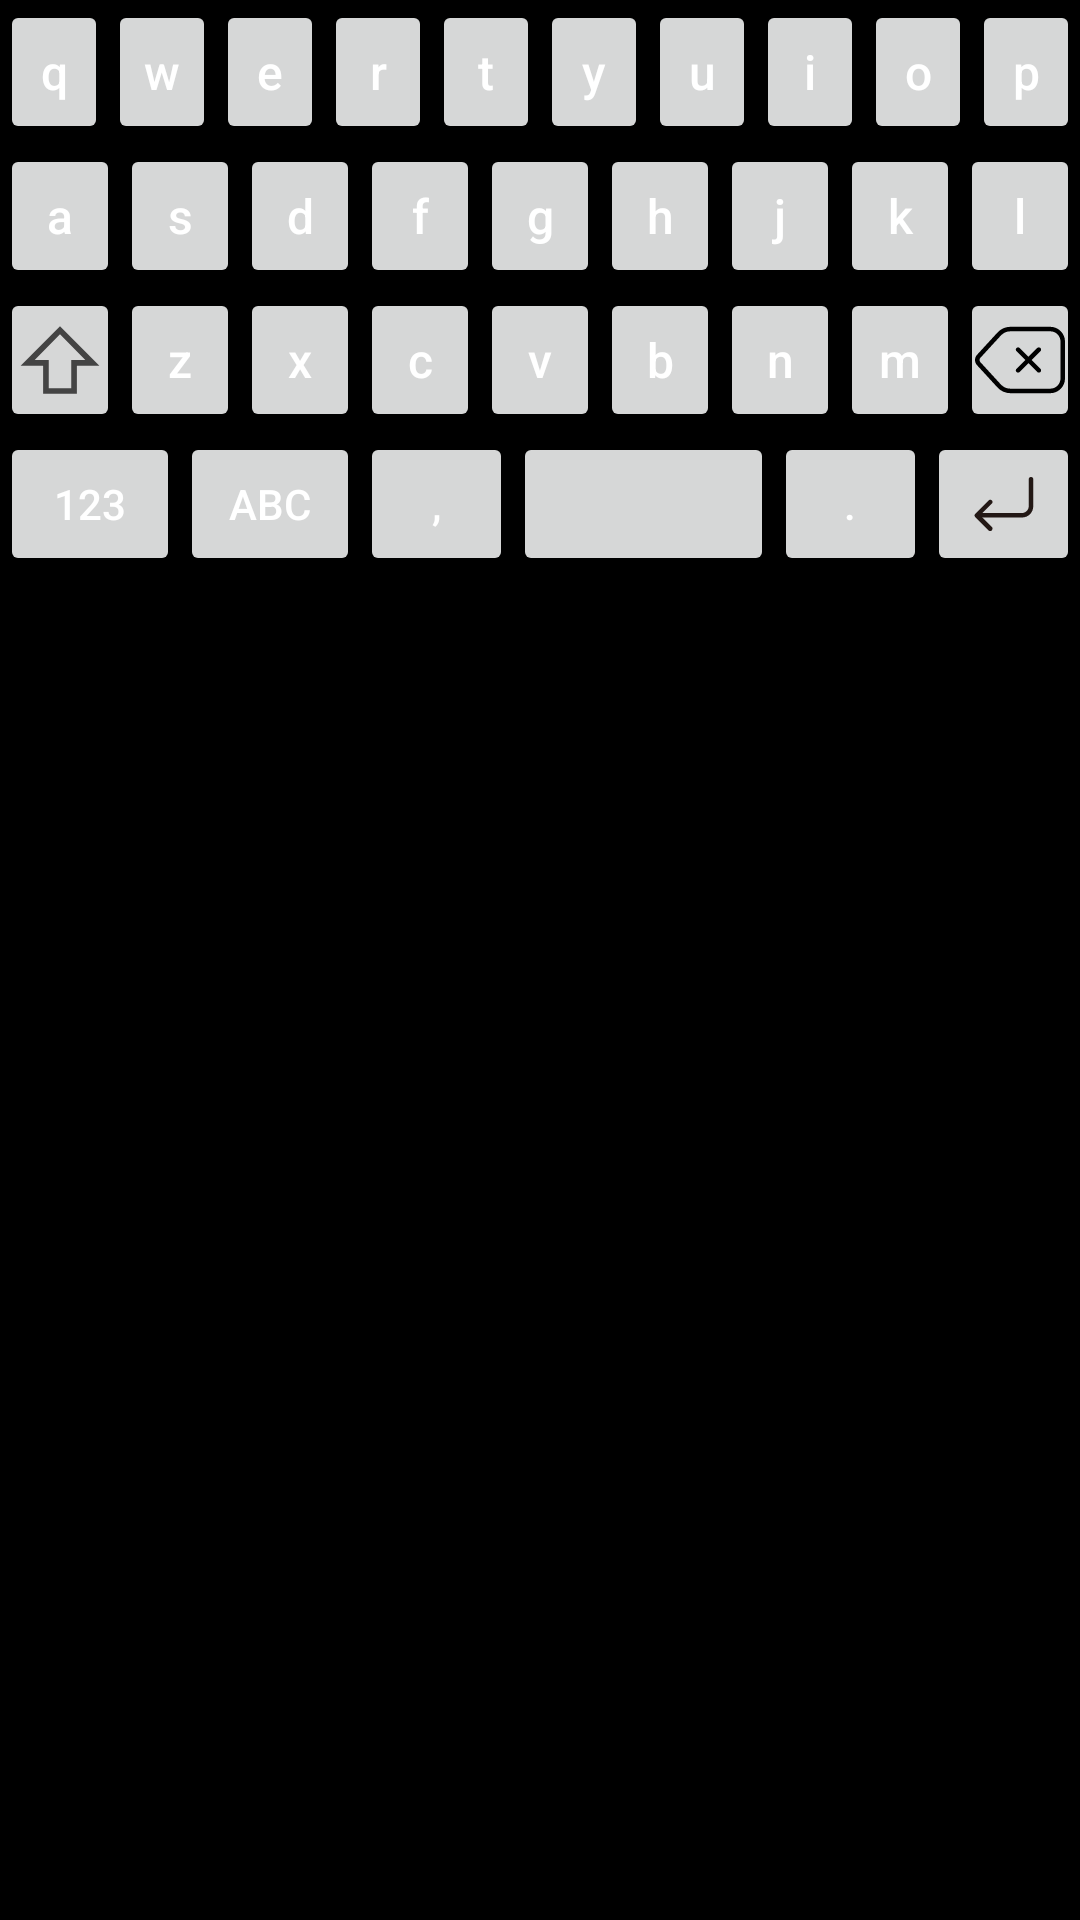

Point at icon controls on the screen. Image size 1080 × 1920, points as (x=x, y=y).
DELETE: (x=1020, y=360)
DONE: (x=1003, y=504)
SHIFT: (x=60, y=360)
